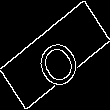O_NW: (27, 22, 83, 88)
